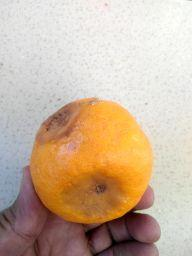Unripe: (29, 99, 153, 221)
